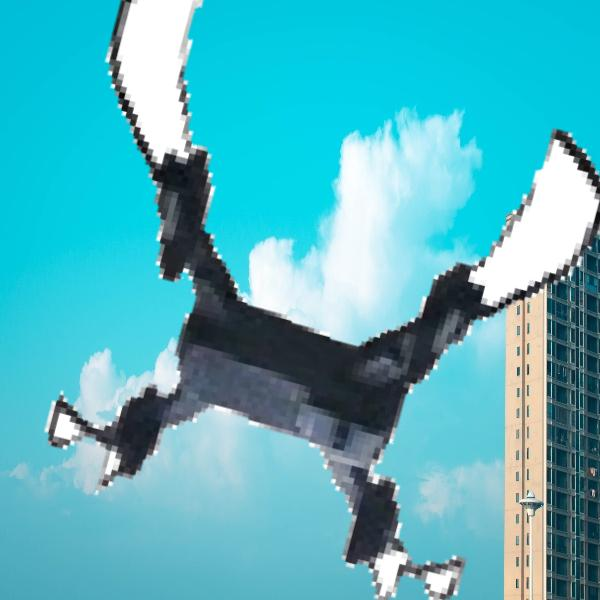drone: (3, 3, 596, 596)
